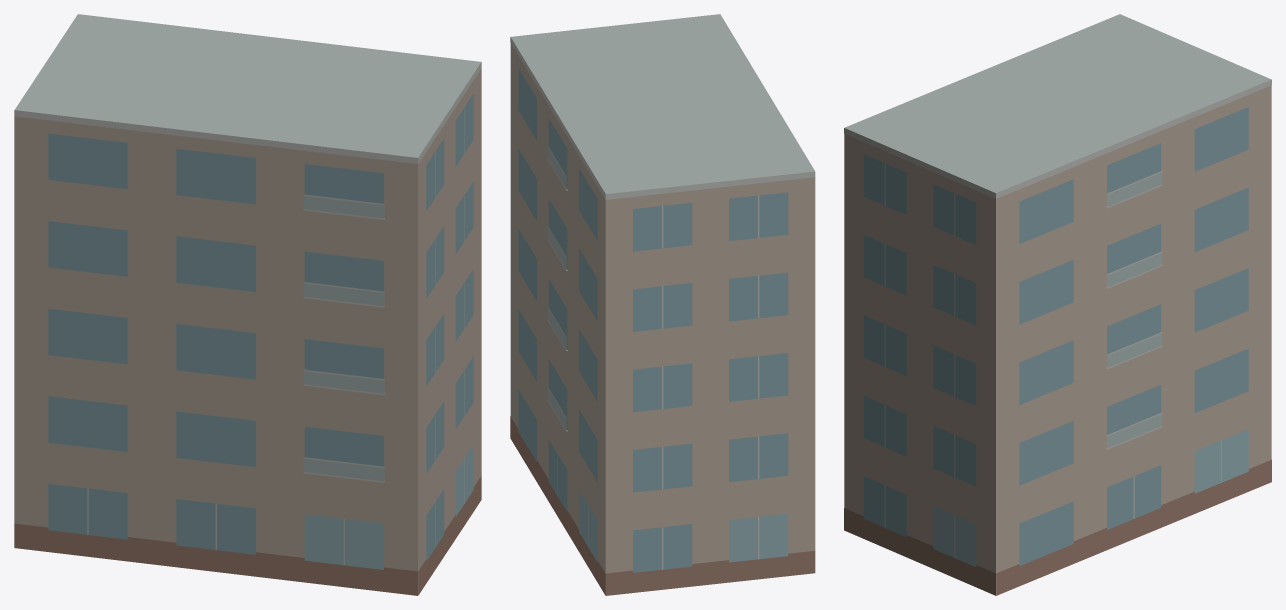
Rendered from survey-upis-32978033.glb.
3 views of the same model, side by side, from view 1: azimuth 30°, elevation 25°; view 2: azimuth 150°, elevation 25°; view 3: azimuth 270°, elevation 25° (orthographic). The views are drawn at different scales.
Parts seen in each view (by area): view 1: survey-upis-32978033.tmp; view 2: survey-upis-32978033.tmp; view 3: survey-upis-32978033.tmp.
Part boxes in pixels (x1,y1,x2,y2): survey-upis-32978033.tmp: (14,14,481,595); survey-upis-32978033.tmp: (510,14,815,595); survey-upis-32978033.tmp: (844,14,1271,595).
Size of the model in its own units: 16.36 by 17.12 by 16.49.
